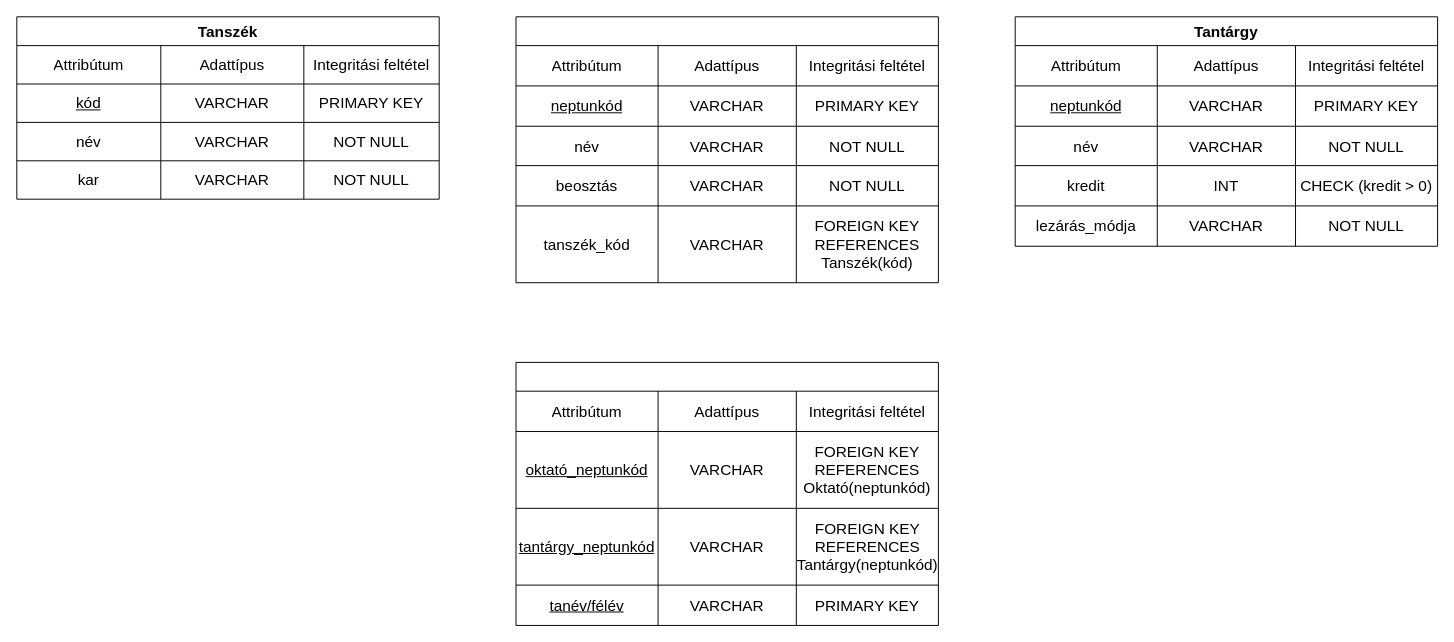
Some shapes in this 1454 by 642 pixel diagram are drawn without their labels. The box of each missing label's shape, as (x1, y1, x2, y2) in pixels:
Oktató: (515, 16, 938, 283)
Oktató_Tantárgy: (515, 361, 938, 625)
